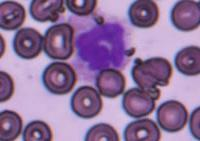N: (73, 16, 131, 78)
